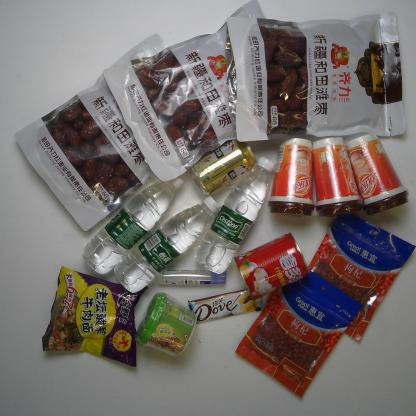Alcohol: (188, 139, 258, 197)
Canned Food: (233, 231, 311, 302)
Chocolate: (187, 288, 264, 325)
Dried Food: (13, 32, 170, 232), (102, 0, 266, 183), (226, 11, 408, 143)
Dried Fruit: (235, 268, 364, 398), (307, 213, 416, 342)
Drink: (113, 194, 221, 294), (81, 175, 184, 275), (193, 156, 276, 275)
Instant Drink: (345, 132, 410, 216), (312, 136, 364, 219), (134, 291, 198, 357), (266, 138, 316, 219)
Instant Noodles: (41, 265, 149, 367)
Stationery: (157, 269, 227, 286)
